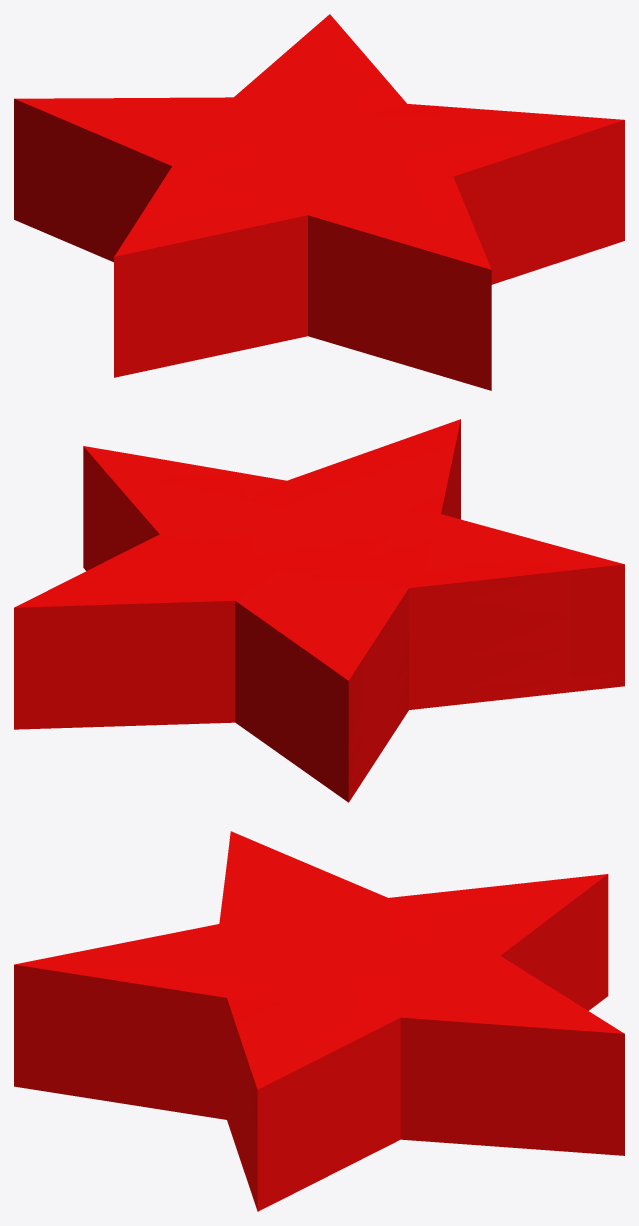
Rendered from star.dae.
3 renders of one model, top to bottom at view 1: azimuth 30°, elevation 25°; view 2: azimuth 150°, elevation 25°; view 3: azimuth 270°, elevation 25°, orthographic.
Visible parts, largest first — view 1: Star1; view 2: Star1; view 3: Star1.
Part boxes in pixels (x1,y1,x2,y2): Star1: (14,14,624,390); Star1: (14,419,624,802); Star1: (14,831,624,1211).
Size of the model in its own units: 0.09 by 0.09 by 0.02.
